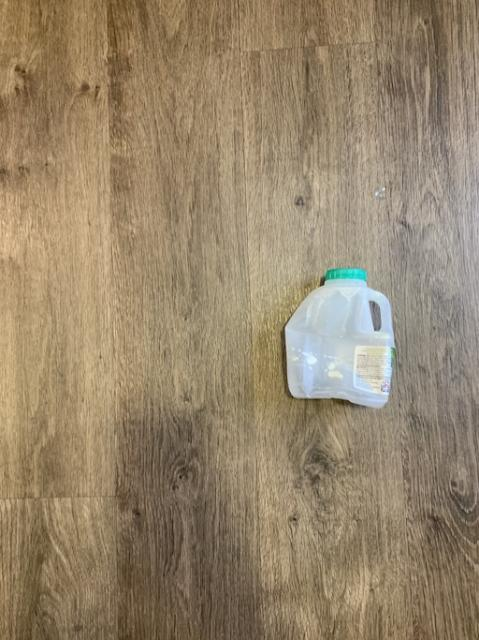plastic: (285, 267, 394, 406)
